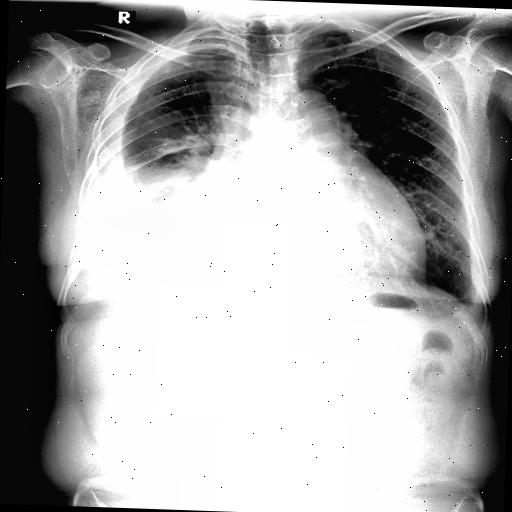10- Pleural effusion: (72, 39, 254, 326), (76, 30, 262, 310), (71, 30, 251, 274), (454, 282, 488, 330), (457, 288, 484, 322)
11- Pleural thickening: (454, 282, 488, 330), (457, 288, 484, 322)
13- Pulmonary fibrosis: (424, 206, 465, 264)
3- Cardiomegaly: (220, 166, 428, 302), (194, 168, 430, 280)
6- Infiltration: (122, 98, 218, 210)
7- Lung Opacity: (122, 98, 218, 210), (114, 144, 212, 220), (134, 126, 216, 208), (424, 206, 465, 264)
